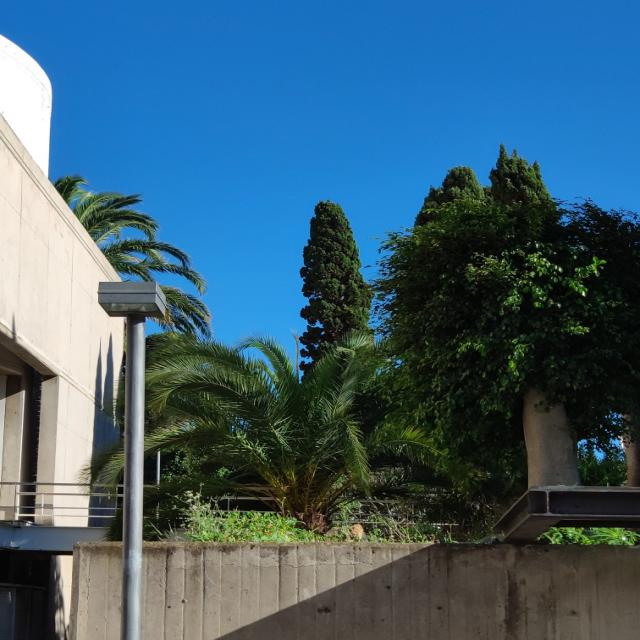Palm-Trees: (153, 329, 434, 538)
